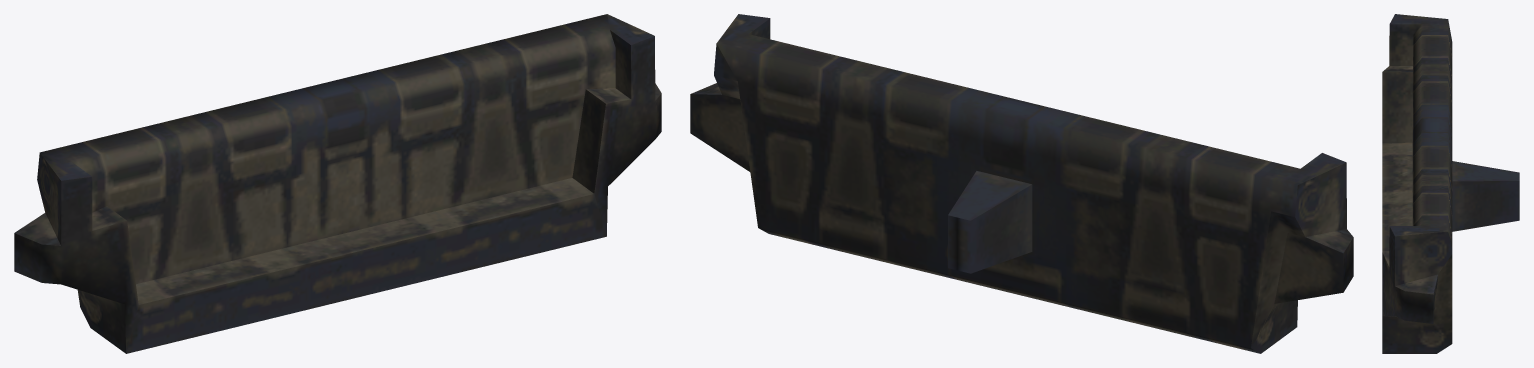
Rendered from FV215b_track.glb.
3 renders of one model, left to right at view 1: azimuth 30°, elevation 25°; view 2: azimuth 150°, elevation 25°; view 3: azimuth 270°, elevation 25°, orthographic. The views are drawn at different scales.
Visible parts, largest first — view 1: set_0_group_0; view 2: set_0_group_0; view 3: set_0_group_0.
Part boxes in pixels (left/top/right/bottom): set_0_group_0: left=14, top=14, right=661, bottom=353; set_0_group_0: left=690, top=14, right=1353, bottom=353; set_0_group_0: left=1382, top=14, right=1519, bottom=353.
Bounding box in the file's own units: 0.8008 × 0.2172 × 0.1951.
Materials: 1 (1 with a texture image).
